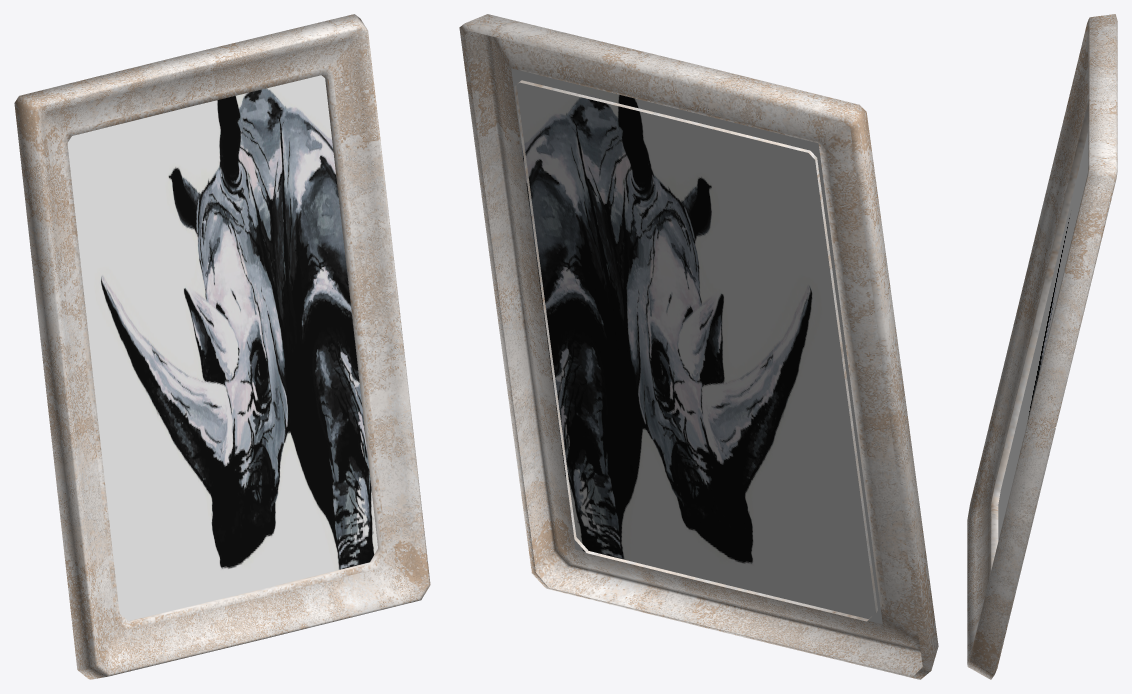
Rendered from Rhino.fbx.
3 views of the same model, side by side, from view 1: azimuth 30°, elevation 25°; view 2: azimuth 150°, elevation 25°; view 3: azimuth 270°, elevation 25° (orthographic). The views are drawn at different scales.
Parts seen in each view (by area): view 1: KitschPainting.002, PaintingFrame.001; view 2: KitschPainting.002, PaintingFrame.001; view 3: PaintingFrame.001, KitschPainting.002.
Boxes of the visible parts, x1,y1,x2,y2 form: KitschPainting.002: (67, 75, 377, 620); PaintingFrame.001: (14, 14, 430, 679); KitschPainting.002: (511, 68, 882, 624); PaintingFrame.001: (459, 14, 938, 679); PaintingFrame.001: (967, 14, 1117, 679); KitschPainting.002: (998, 131, 1088, 540).
Size of the model in its own units: 309 by 459 by 122.
